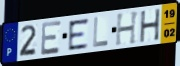2: (19, 23, 38, 59)
E: (40, 19, 63, 57), (68, 17, 90, 53)
H: (115, 10, 141, 48), (139, 8, 162, 45)
L: (92, 16, 110, 49)
